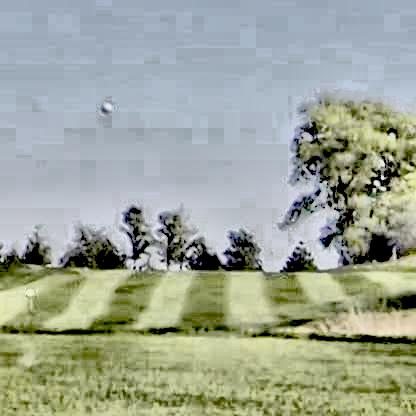golfball: (98, 99, 109, 111)
